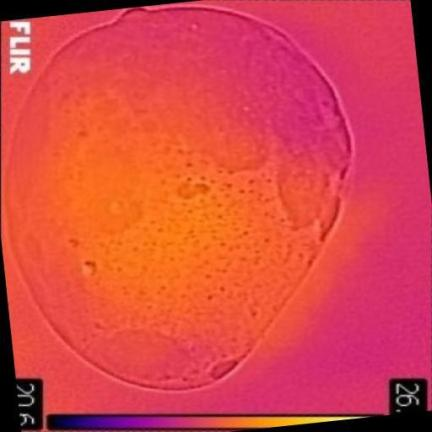mango: (5, 7, 350, 391)
